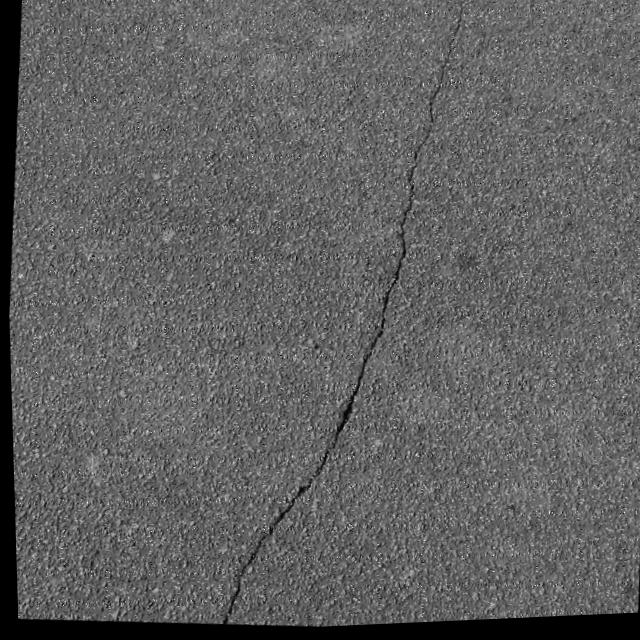Crack: (186, 0, 498, 634)
